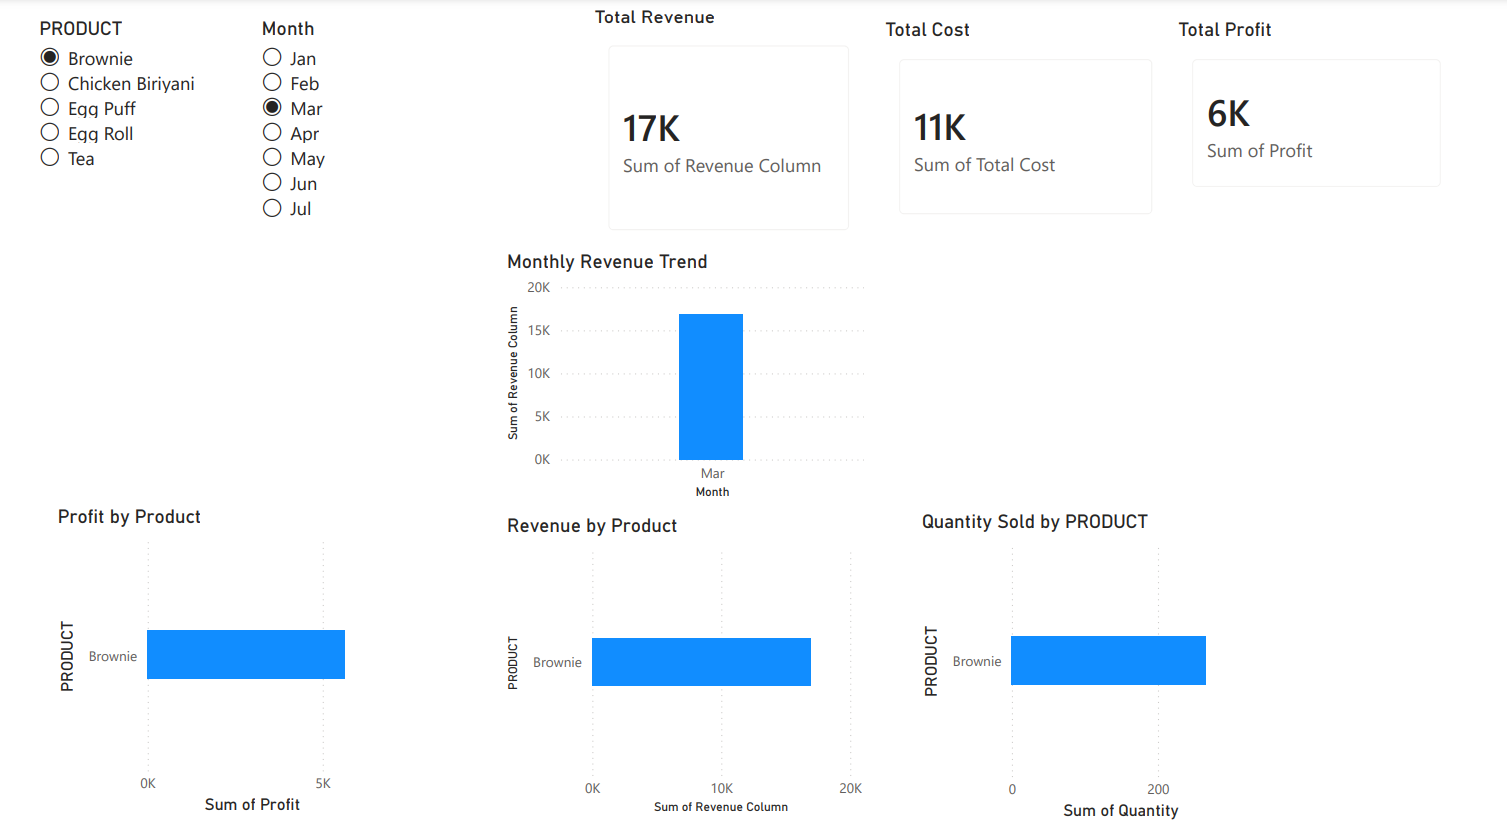

What the dashboard file says about the page in this screenshot:
{"tool":"powerbi","page":{"name":"Page 1","canvas":[1280,720],"ordinal":0},"visuals":[{"type":"clusteredColumnChart","title":"Monthly Revenue Trend","fields":{"Category":["Cleaned_Data.Month"],"Y":["Sum(Cleaned_Data.Revenue Column)"]},"box":[421.3,215.4,322.5,223.7],"z":0},{"type":"clusteredBarChart","title":"Revenue by Product","fields":{"Y":["Sum(Cleaned_Data.Revenue Column)"],"Category":["Cleaned_Data.PRODUCT"]},"box":[421.3,447.3,321.1,267.6],"z":1000},{"type":"clusteredBarChart","title":"Profit by Product","fields":{"Y":["Sum(Cleaned_Data.Profit)"],"Category":["Cleaned_Data.PRODUCT"]},"box":[27.4,439.1,279.9,275.8],"z":2000},{"type":"clusteredBarChart","title":" Quantity Sold  by PRODUCT","fields":{"Y":["Sum(Cleaned_Data.Quantity)"],"Category":["Cleaned_Data.PRODUCT"]},"box":[784.9,443.2,290.9,277.2],"z":3000},{"type":"cardVisual","title":"Total Revenue","fields":{"Data":["Sum(Cleaned_Data.Revenue Column)"]},"box":[498.1,0,245.6,215.4],"z":3001},{"type":"cardVisual","title":"Total Cost","fields":{"Data":["Sum(Cleaned_Data.Total Cost)"]},"box":[753.3,12.3,256.6,189.4],"z":3002},{"type":"cardVisual","title":"Total Profit","fields":{"Data":["Sum(Cleaned_Data.Profit)"]},"box":[1010,12.3,252.5,166],"z":3003},{"type":"listSlicer","fields":{"Values":["Cleaned_Data.PRODUCT"]},"box":[11,11,201.7,204.5],"z":3004},{"type":"listSlicer","fields":{"Values":["Cleaned_Data.Month"]},"box":[205.8,11,203.1,204.5],"z":3005}]}

Visuals, with their boxes in screenshot pixels (x1, y1, x2, y2), scaled from the page's 1280x720 canvas onto the 1507x831 screenshot:
"Monthly Revenue Trend" clusteredColumnChart: {"x1": 496, "y1": 249, "x2": 876, "y2": 507}
"Revenue by Product" clusteredBarChart: {"x1": 496, "y1": 516, "x2": 874, "y2": 825}
"Profit by Product" clusteredBarChart: {"x1": 32, "y1": 507, "x2": 362, "y2": 825}
" Quantity Sold  by PRODUCT" clusteredBarChart: {"x1": 924, "y1": 512, "x2": 1267, "y2": 830}
"Total Revenue" cardVisual: {"x1": 586, "y1": 0, "x2": 876, "y2": 249}
"Total Cost" cardVisual: {"x1": 887, "y1": 14, "x2": 1189, "y2": 233}
"Total Profit" cardVisual: {"x1": 1189, "y1": 14, "x2": 1486, "y2": 206}
listSlicer - Cleaned_Data.PRODUCT: {"x1": 13, "y1": 13, "x2": 250, "y2": 249}
listSlicer - Cleaned_Data.Month: {"x1": 242, "y1": 13, "x2": 481, "y2": 249}
